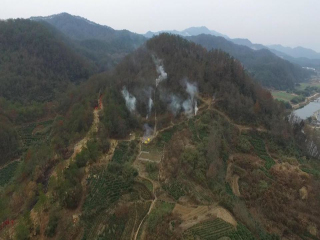smoke: (120, 56, 200, 137)
